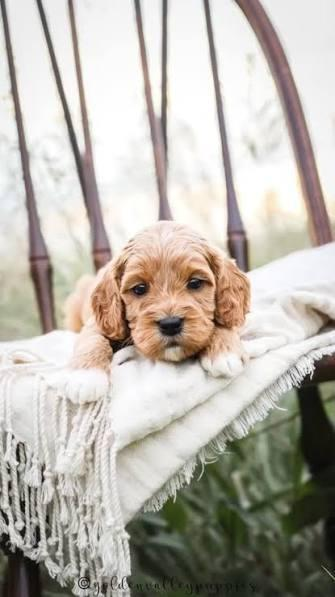puppy-dog: (62, 224, 251, 405)
